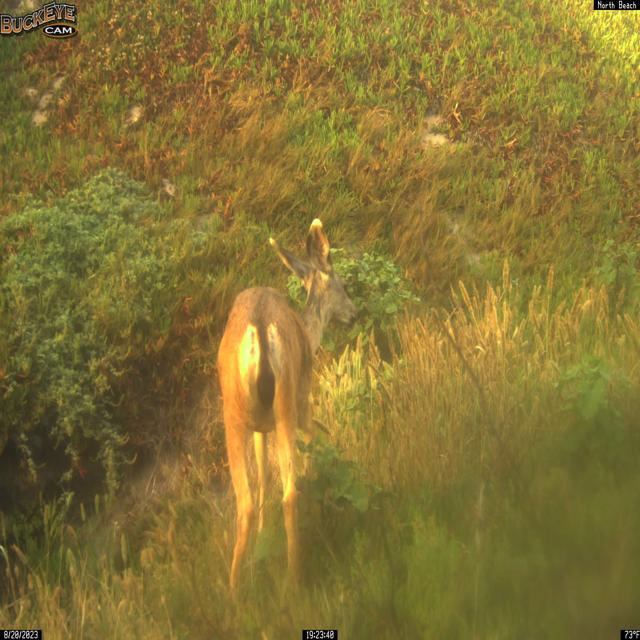deer: (216, 217, 359, 602)
